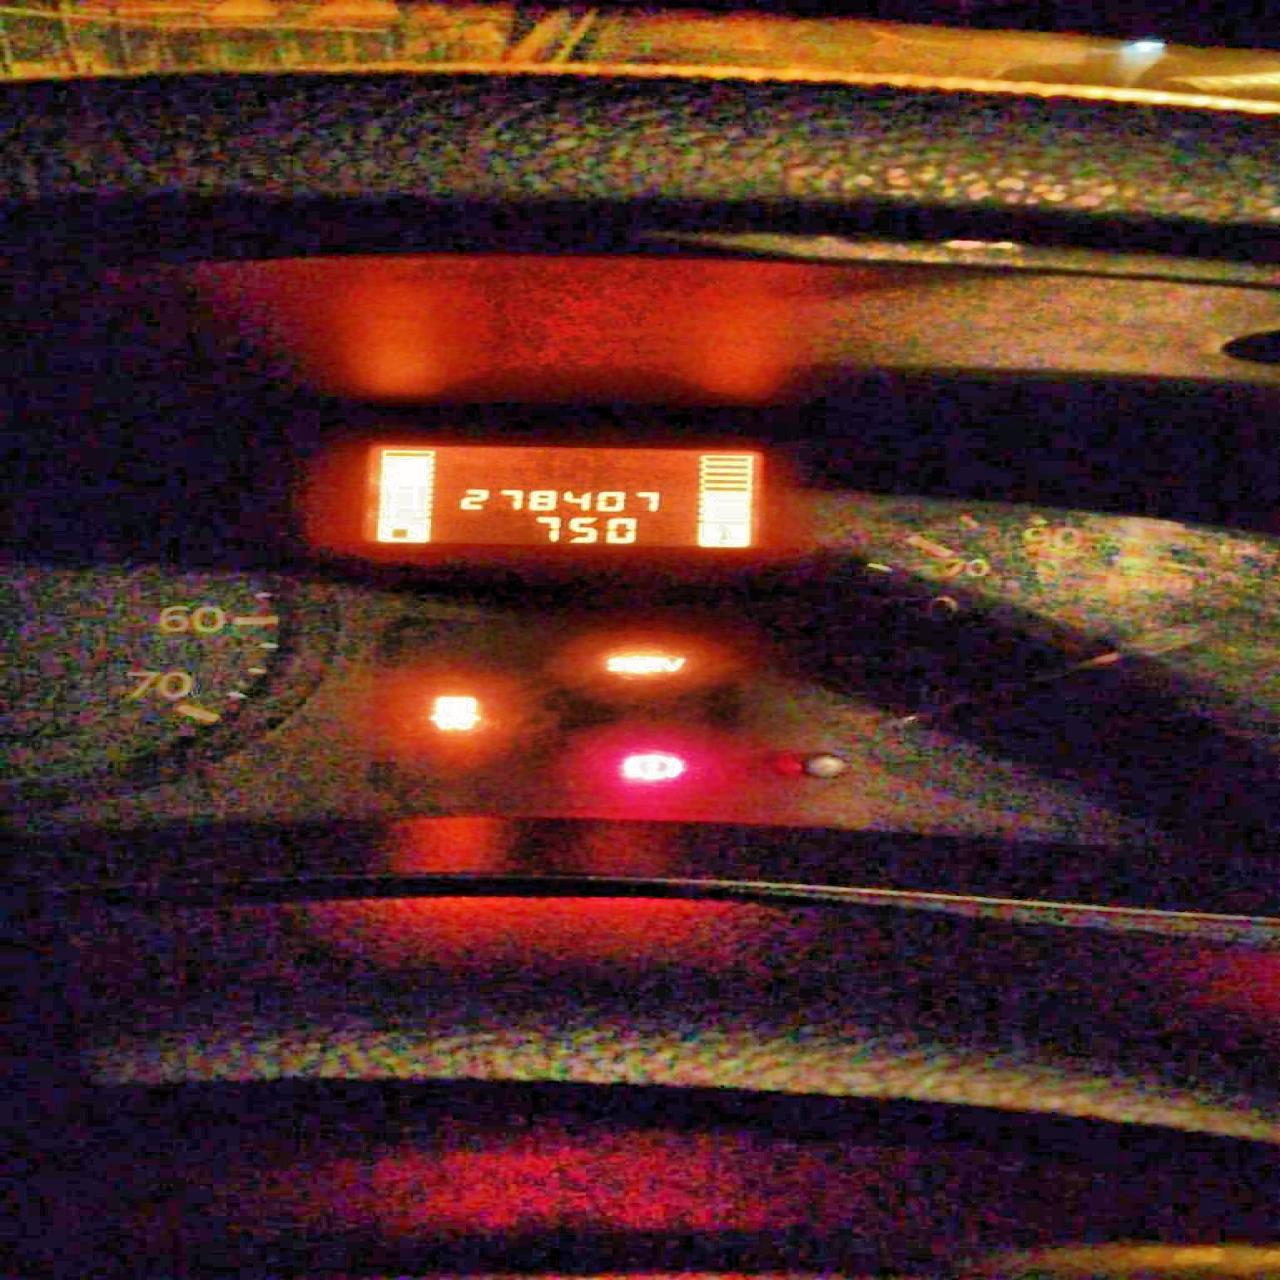0: (605, 516, 638, 544), (594, 490, 624, 512)
2: (456, 488, 491, 511)
4: (561, 490, 591, 511)
5: (566, 516, 598, 543)
7: (533, 516, 561, 543), (496, 488, 523, 510), (634, 490, 659, 512)
8: (526, 490, 558, 511)
odometer: (355, 442, 764, 551)
